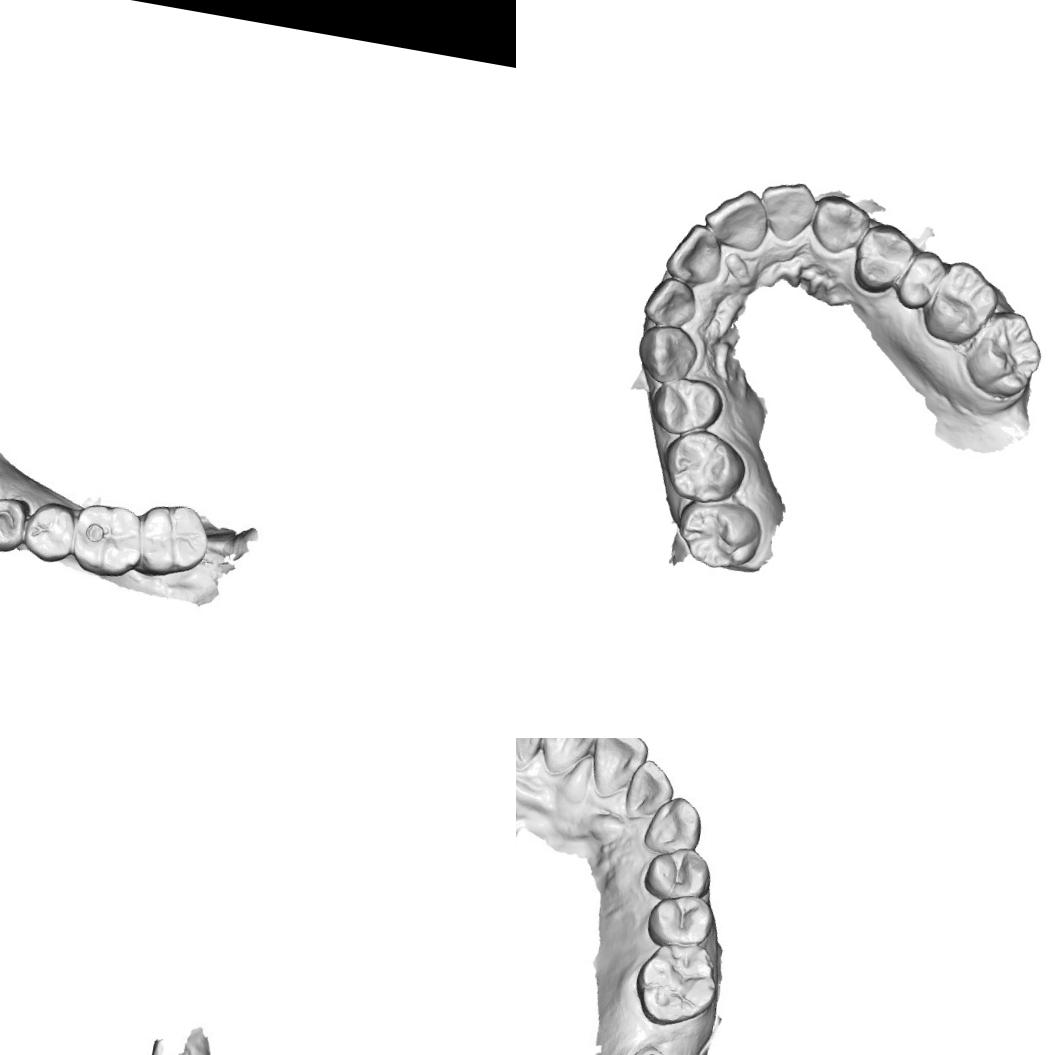canine: (639, 789, 709, 861), (632, 320, 702, 388), (806, 190, 874, 259)
implant: (625, 1039, 675, 1055)
incisor: (698, 182, 774, 258), (658, 217, 730, 291), (754, 175, 818, 245), (584, 738, 652, 802), (618, 754, 678, 826), (639, 273, 704, 332), (532, 738, 602, 783), (516, 738, 546, 772)
molar: (626, 934, 724, 1036), (960, 304, 1048, 404), (659, 424, 752, 509), (670, 493, 765, 576), (920, 256, 1002, 352), (69, 501, 149, 578), (134, 500, 210, 576)
premolar: (646, 371, 725, 442), (850, 219, 920, 296), (640, 886, 719, 953), (638, 839, 716, 906), (20, 499, 81, 566), (891, 244, 948, 314), (0, 488, 34, 556)
